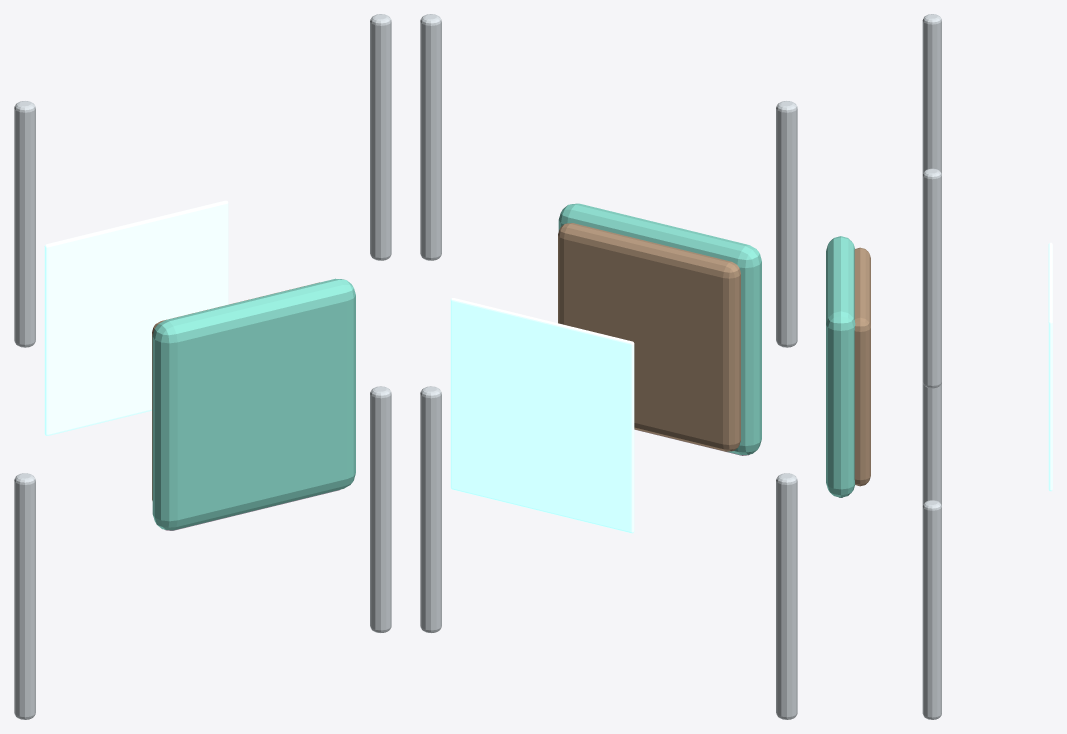
File: plot_tower_dry.fbx
3 renders of one model, left to right at view 1: azimuth 30°, elevation 25°; view 2: azimuth 150°, elevation 25°; view 3: azimuth 270°, elevation 25°, orthographic. The views are drawn at different scales.
Parts seen in each view (by area): view 1: plot_tower_dry_base, cantero_torre_energia, cantero_torre_poste, cantero_torre_poste.003, cantero_torre_poste.001, cantero_torre_poste.002; view 2: cantero_torre_energia, plot_tower_dry_solo, plot_tower_dry_base, cantero_torre_poste, cantero_torre_poste.003, cantero_torre_poste.001, cantero_torre_poste.002; view 3: plot_tower_dry_base, cantero_torre_poste.003, cantero_torre_poste.002, plot_tower_dry_solo, cantero_torre_poste.001, cantero_torre_poste, cantero_torre_energia.
Part boxes in pixels (left/top/right/bottom): plot_tower_dry_base: left=152, top=278, right=355, bottom=530; cantero_torre_energia: left=44, top=200, right=228, bottom=435; cantero_torre_poste: left=14, top=473, right=35, bottom=719; cantero_torre_poste.003: left=370, top=14, right=391, bottom=260; cantero_torre_poste.001: left=14, top=101, right=35, bottom=347; cantero_torre_poste.002: left=370, top=386, right=391, bottom=632; cantero_torre_energia: left=450, top=298, right=634, bottom=533; plot_tower_dry_solo: left=558, top=223, right=740, bottom=451; plot_tower_dry_base: left=558, top=203, right=761, bottom=455; cantero_torre_poste: left=776, top=473, right=797, bottom=719; cantero_torre_poste.003: left=420, top=14, right=441, bottom=260; cantero_torre_poste.001: left=776, top=101, right=797, bottom=347; cantero_torre_poste.002: left=420, top=386, right=441, bottom=632; plot_tower_dry_base: left=826, top=236, right=855, bottom=497; cantero_torre_poste.003: left=922, top=168, right=941, bottom=388; cantero_torre_poste.002: left=922, top=500, right=941, bottom=719; plot_tower_dry_solo: left=854, top=247, right=870, bottom=486; cantero_torre_poste.001: left=922, top=14, right=941, bottom=174; cantero_torre_poste: left=922, top=382, right=941, bottom=505; cantero_torre_energia: left=1048, top=242, right=1052, bottom=491.
Bounding box in the file's own units: 358 × 560 × 211.
